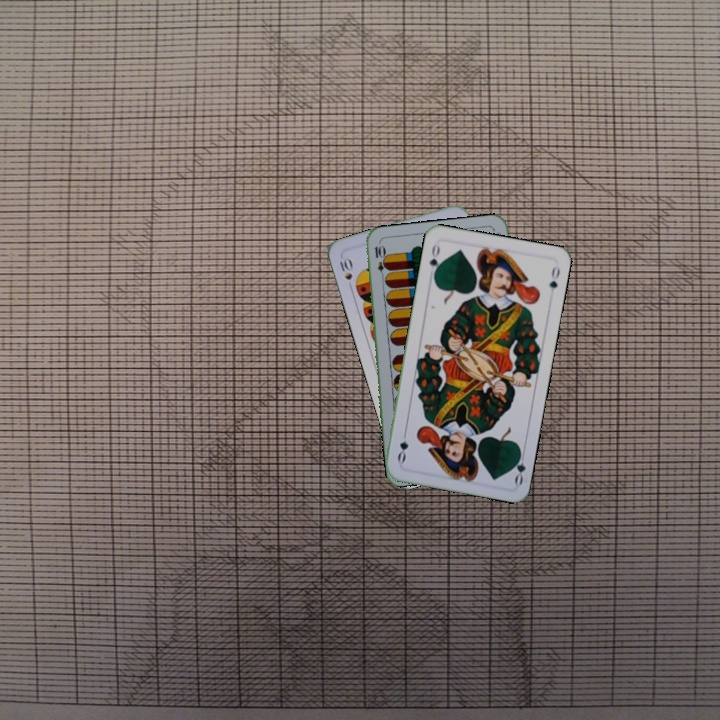E10: (370, 241, 388, 282)
GO: (508, 446, 528, 487), (425, 241, 443, 280)
S10: (335, 253, 355, 293)
